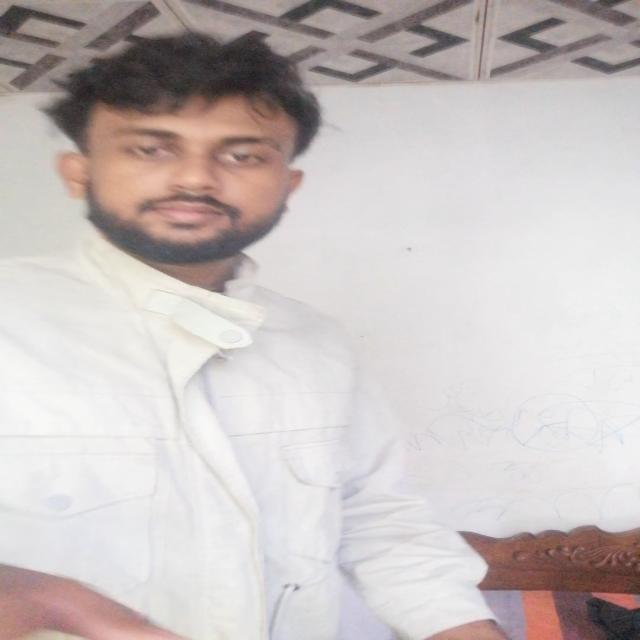Jacket_Wearer: (2, 240, 510, 638)
Person: (9, 39, 487, 637)
